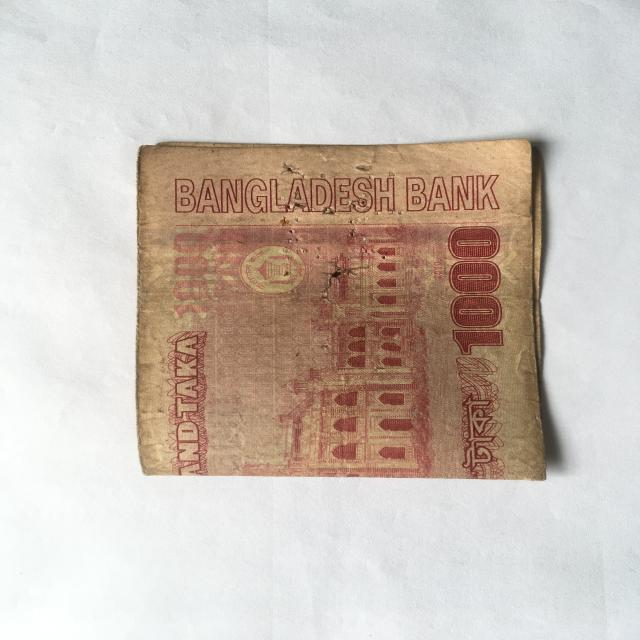Taka: (126, 134, 560, 486)
